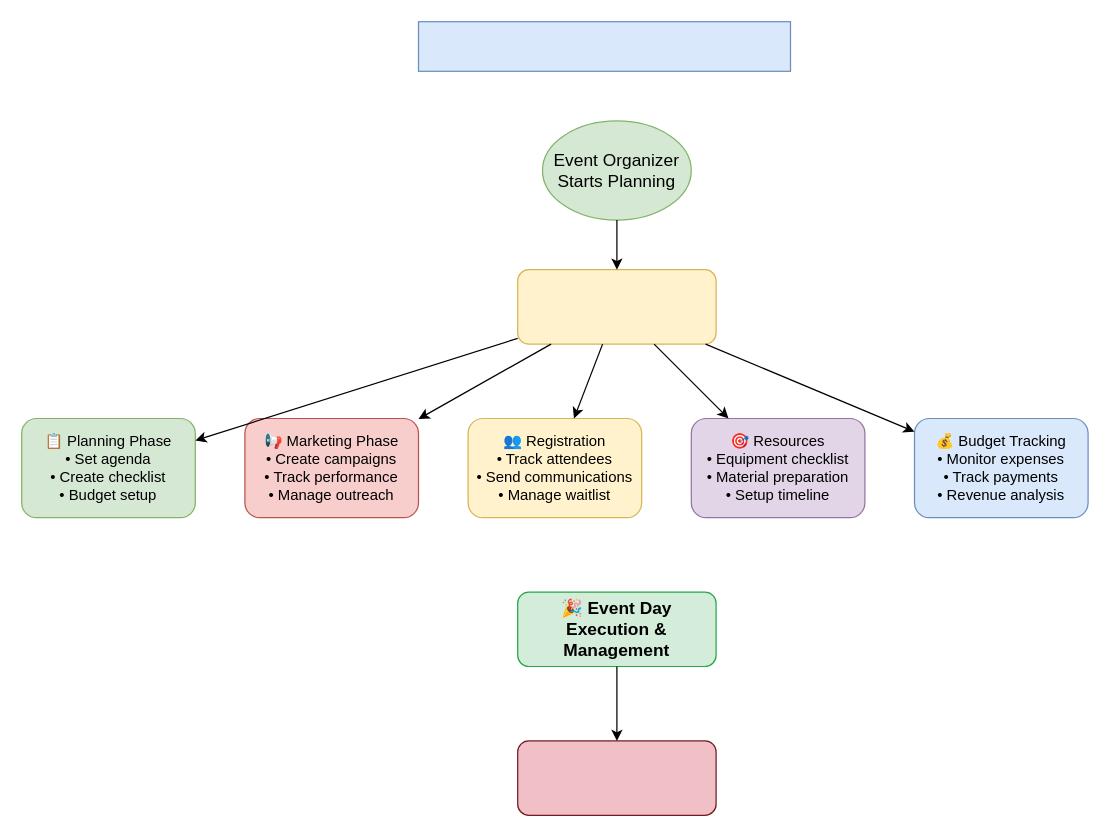
Some shapes in this 1110 by 837 pixel diagram are drawn without their labels. Here are the shapes that lost their labels. From the top down, the centre of each, then its label:
At [603,45]: "Event Organizer User Flow".
At [616,306]: "Main Dashboard Overview & Navigation".
At [616,777]: "📧 Post-Event Follow-up & Analysis".
